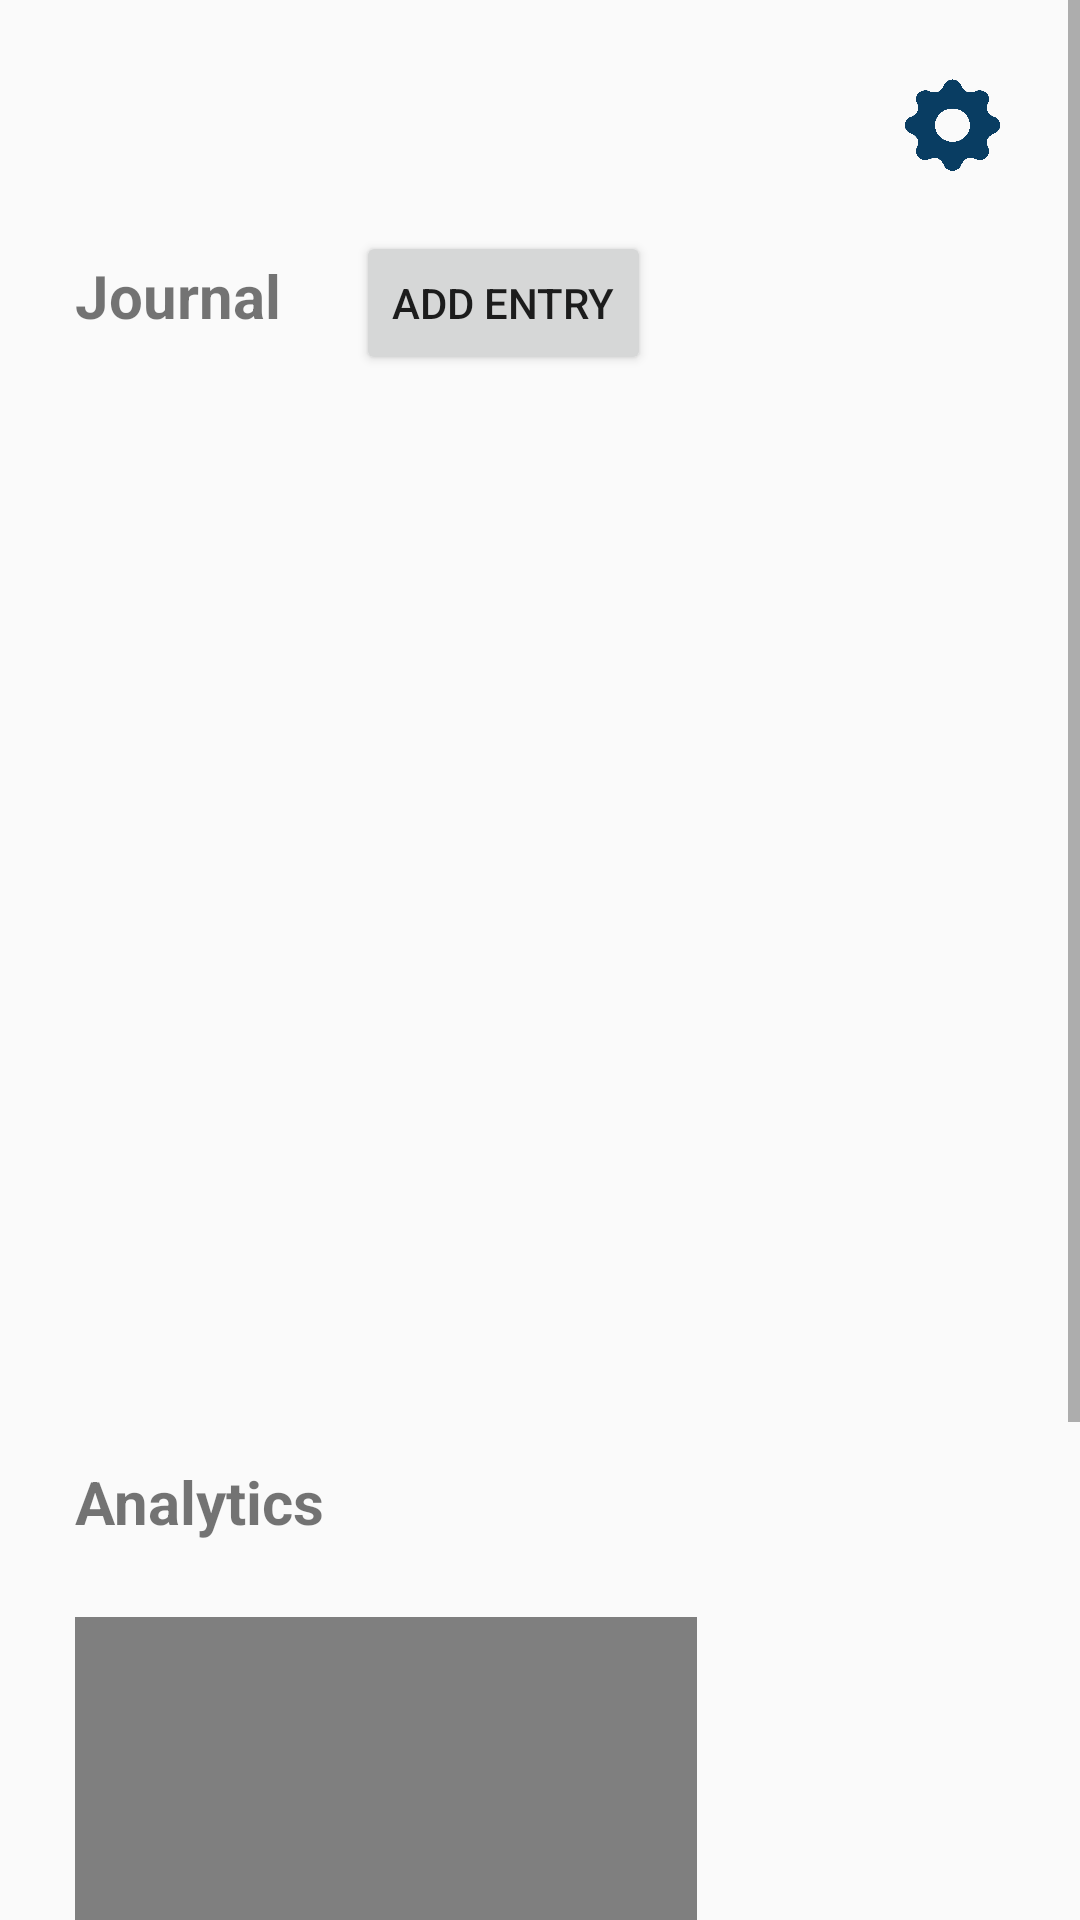

Named icons in this screenshot (1080×1920) and their bounding boxes, (x1, y1, x2, y2):
settings: (905, 79, 1000, 171)
